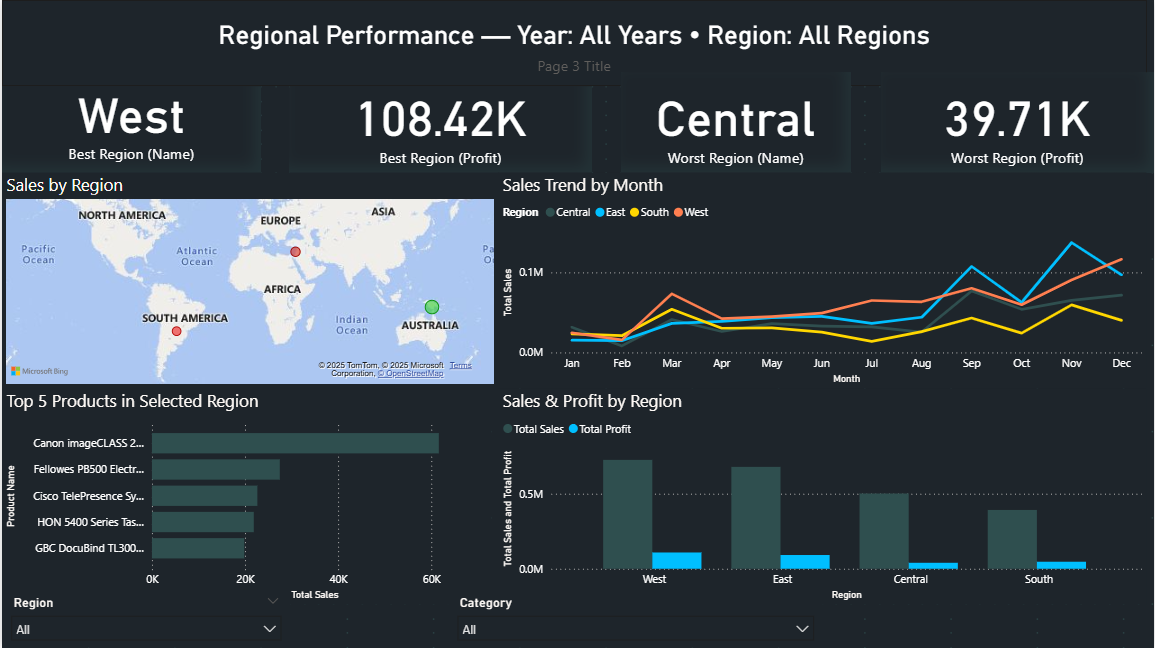

What the dashboard file says about the page in this screenshot:
{"tool":"powerbi","page":{"name":"Regional Performance","canvas":[1280,720],"ordinal":2},"visuals":[{"type":"card","fields":{"Values":["Measures (2).Best Region (Name)"]},"box":[0,72,288,120],"z":0},{"type":"card","fields":{"Values":["Measures (2).Best Region (Profit)"]},"box":[320,80,336,112],"z":1},{"type":"card","fields":{"Values":["Measures (2).Page 3 Title"]},"box":[0,0,1280,96],"z":2},{"type":"card","fields":{"Values":["Measures (2).Worst Region (Name)"]},"box":[688,80,256,112],"z":3},{"type":"card","fields":{"Values":["Measures (2).Worst Region (Profit)"]},"box":[976,80,304,112],"z":4},{"type":"map","title":"Sales by Region","fields":{"Category":["superstore_cleaned.Region"],"Size":["Measures (2).Total Profit"]},"box":[0,192,552,240],"z":5},{"type":"lineChart","title":"Sales Trend by Month","fields":{"Category":["Date.Month"],"Y":["Measures (2).Total Sales"],"Series":["superstore_cleaned.Region"]},"box":[552,192,720,240],"z":6},{"type":"clusteredBarChart","title":"Top 5 Products in Selected Region","fields":{"Category":["superstore_cleaned.Product Name"],"Y":["Measures (2).Total Sales"]},"box":[0,432,544,240],"z":7},{"type":"clusteredColumnChart","title":"Sales & Profit by Region","fields":{"Category":["superstore_cleaned.Region"],"Y":["Measures (2).Total Sales","Measures (2).Total Profit"]},"box":[552,432,720,240],"z":8},{"type":"slicer","fields":{"Values":["superstore_cleaned.Region"]},"box":[0,656,320,64],"z":9},{"type":"slicer","fields":{"Values":["superstore_cleaned.Category"]},"box":[496,656,416,64],"z":10}]}

Visuals, with their boxes in screenshot pixels (x1, y1, x2, y2), scaled from the page's 1280x720 canvas onto the 1155x648 screenshot:
card - Measures (2).Best Region (Name): bbox=(0, 65, 260, 173)
card - Measures (2).Best Region (Profit): bbox=(289, 72, 592, 173)
card - Measures (2).Page 3 Title: bbox=(0, 0, 1154, 86)
card - Measures (2).Worst Region (Name): bbox=(621, 72, 852, 173)
card - Measures (2).Worst Region (Profit): bbox=(881, 72, 1154, 173)
"Sales by Region" map: bbox=(0, 173, 498, 389)
"Sales Trend by Month" lineChart: bbox=(498, 173, 1148, 389)
"Top 5 Products in Selected Region" clusteredBarChart: bbox=(0, 389, 491, 605)
"Sales & Profit by Region" clusteredColumnChart: bbox=(498, 389, 1148, 605)
slicer - superstore_cleaned.Region: bbox=(0, 590, 289, 647)
slicer - superstore_cleaned.Category: bbox=(448, 590, 823, 647)
